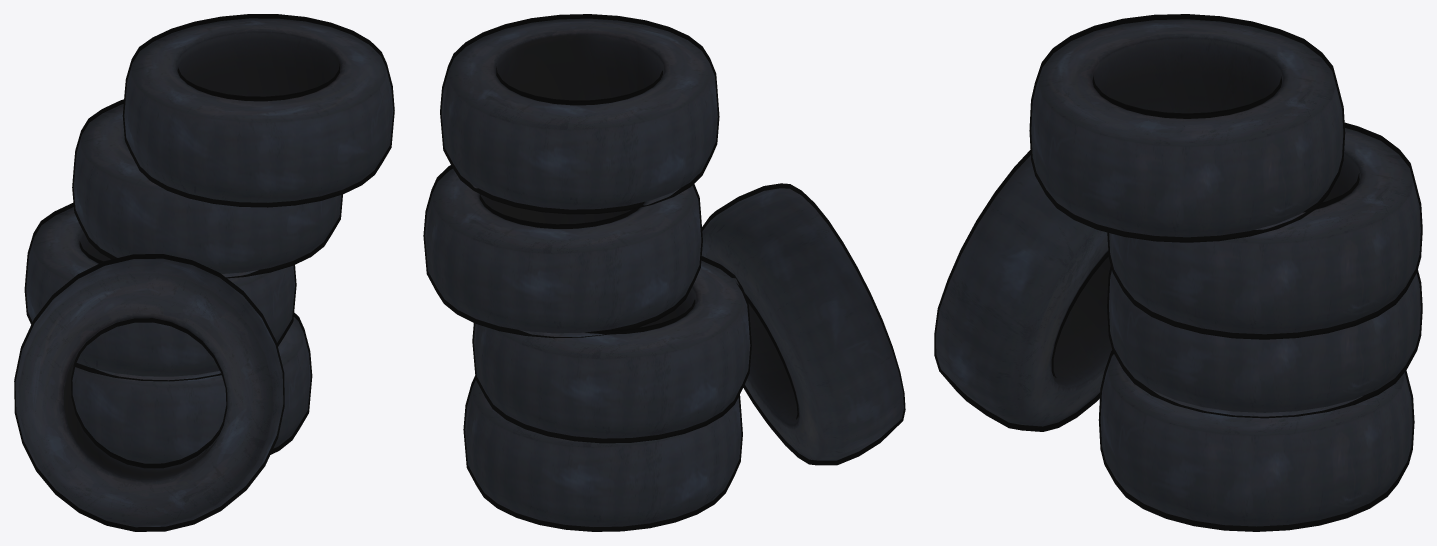
The picture shows the model from 3 angles, left to right: view 1: azimuth 30°, elevation 25°; view 2: azimuth 150°, elevation 25°; view 3: azimuth 270°, elevation 25°; orthographic projection. The views are drawn at different scales.
Parts seen in each view (by area): view 1: Neumaticos001_Material #246_0, Neumaticos001_Material #42_0, Neumaticos002_Material #73_0; view 2: Neumaticos001_Material #246_0, Neumaticos001_Material #42_0, Neumaticos002_Material #73_0; view 3: Neumaticos001_Material #246_0, Neumaticos001_Material #42_0, Neumaticos002_Material #73_0.
Boxes of the visible parts, left/top/right/bottom form: Neumaticos001_Material #246_0: left=15, top=18, right=393, bottom=527; Neumaticos001_Material #42_0: left=26, top=207, right=310, bottom=463; Neumaticos002_Material #73_0: left=14, top=14, right=394, bottom=531; Neumaticos001_Material #246_0: left=425, top=18, right=903, bottom=460; Neumaticos001_Material #42_0: left=465, top=260, right=750, bottom=526; Neumaticos002_Material #73_0: left=423, top=14, right=905, bottom=531; Neumaticos001_Material #246_0: left=936, top=19, right=1420, bottom=426; Neumaticos001_Material #42_0: left=1100, top=271, right=1420, bottom=526; Neumaticos002_Material #73_0: left=934, top=14, right=1422, bottom=531.
Bounding box in the file's own units: 0.2954 × 0.2732 × 0.2725.
Materials: 3 (2 with a texture image).
